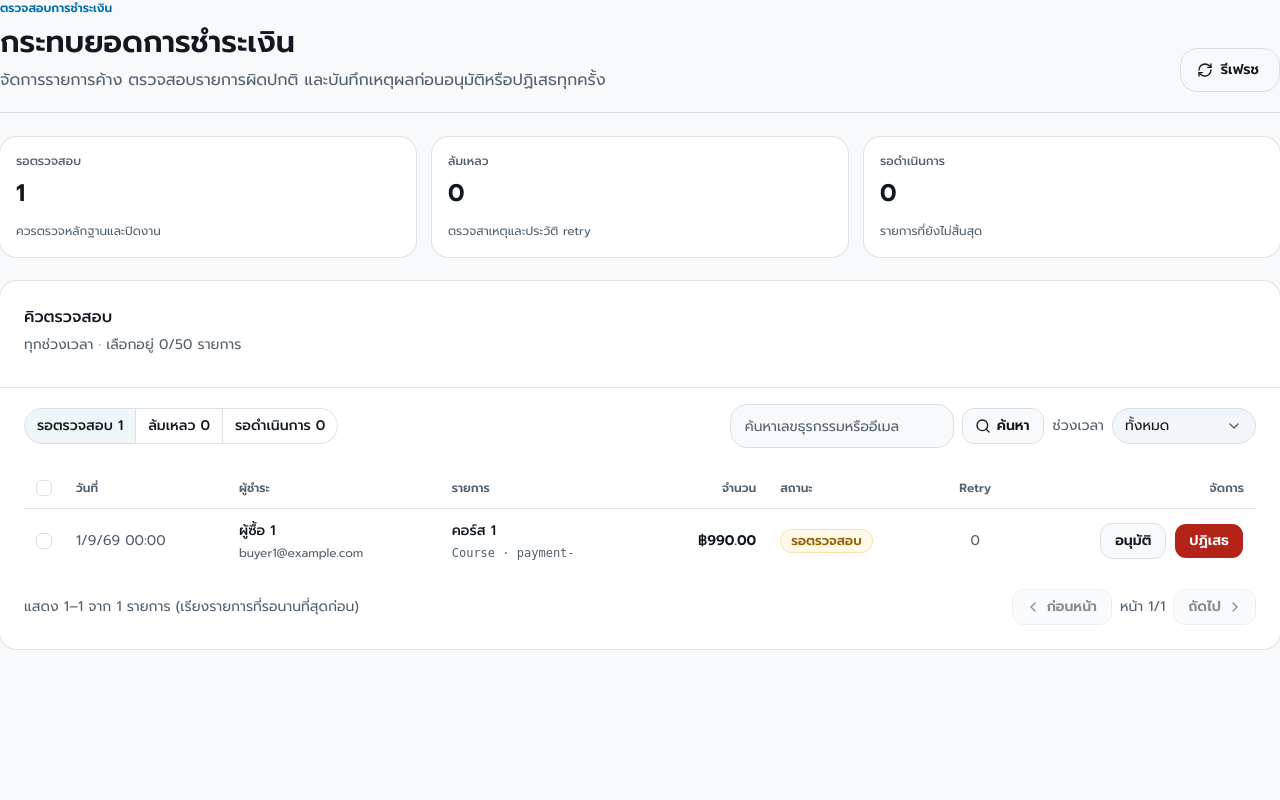
Scenario: Admin reconciliation queue states › case details in the decision dialog › blocks the decision when the retry limit is used up
Expected: the text "คอร์ส 1" is shown, [452,520,496,540]
Click the button "อนุมัติ". click: (1133, 540)
box: [1100,522,1166,558]
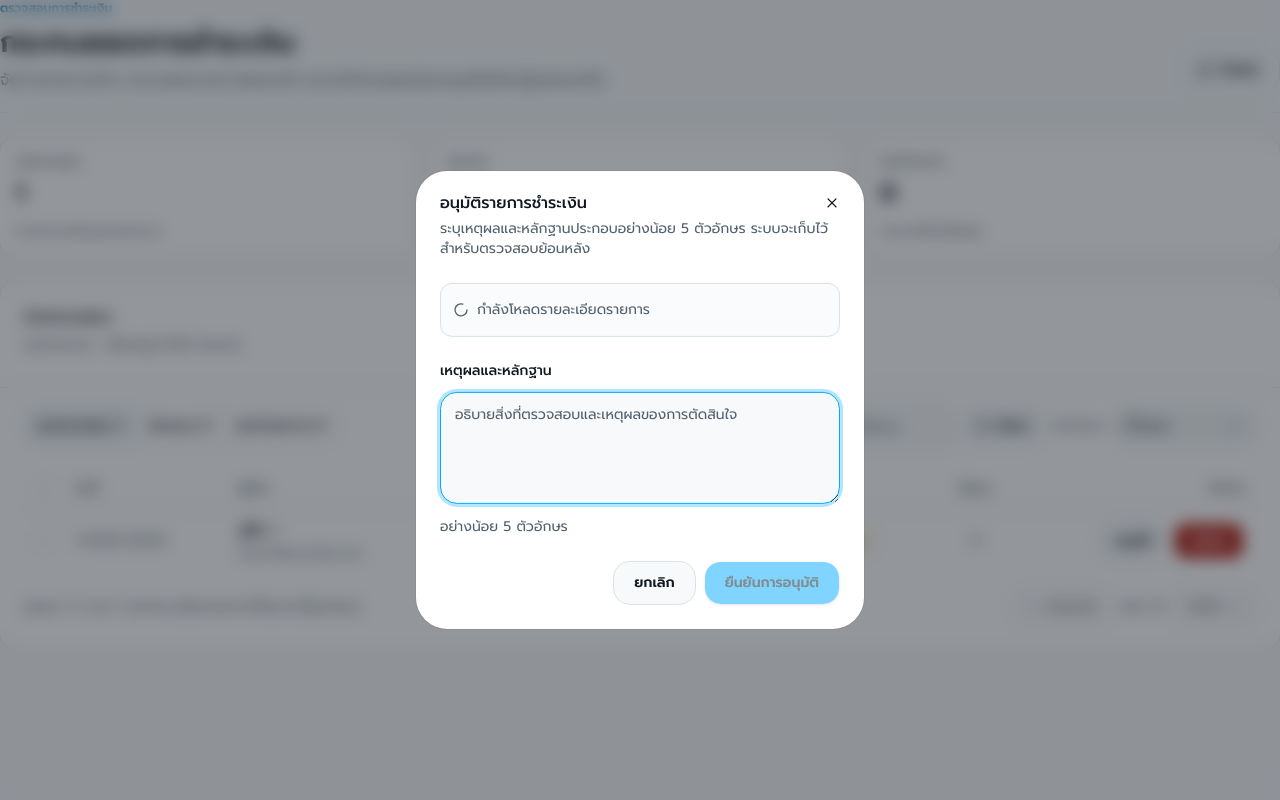
Type "ตรวจรายการเดินบัญชีแล้ว" into the text box labelled "เหตุผลและหลักฐาน". click: (640, 448)
box: [440,392,840,504]
(page scrolled)
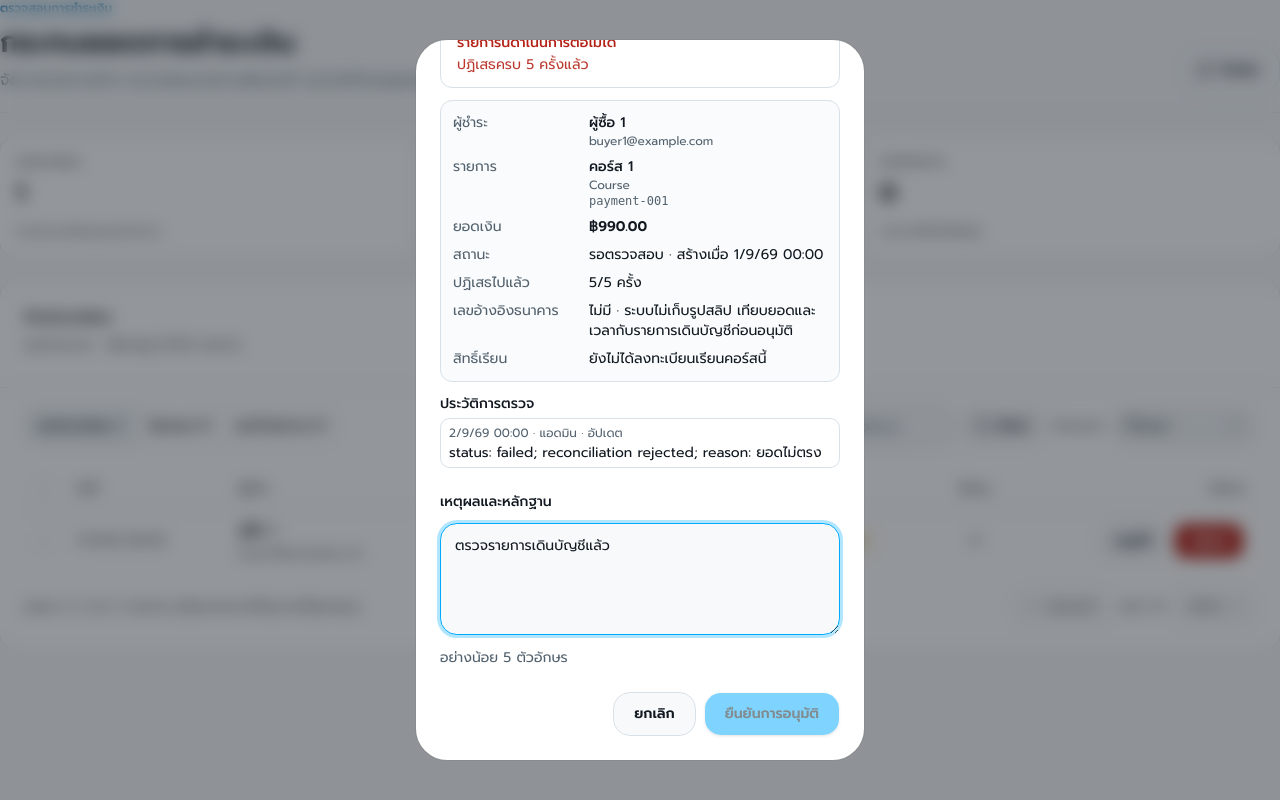
Now the button "ยืนยันการอนุมัติ" is disabled, box [704,692,840,736]
Now the text "รายการนี้ดำเนินการต่อไม่ได้" is shown, box [457,40,616,53]
